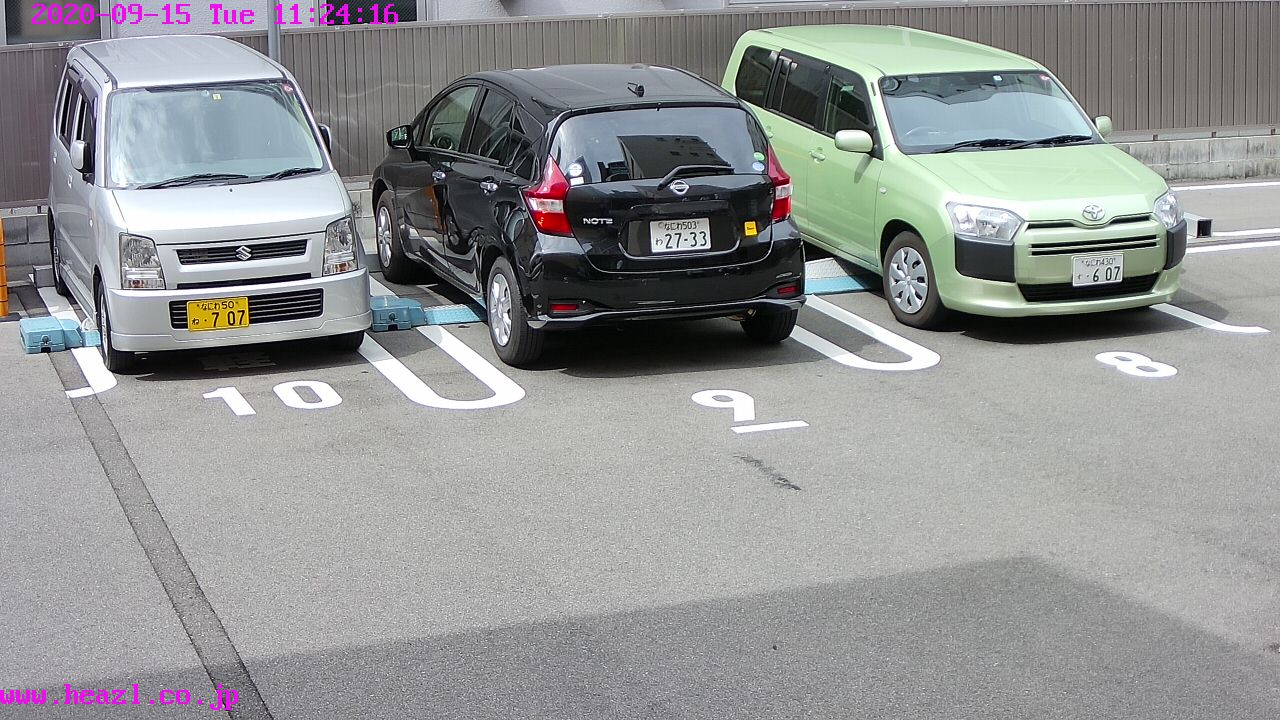number_plate: (651, 221, 712, 252), (188, 301, 250, 327), (1074, 255, 1126, 284)
